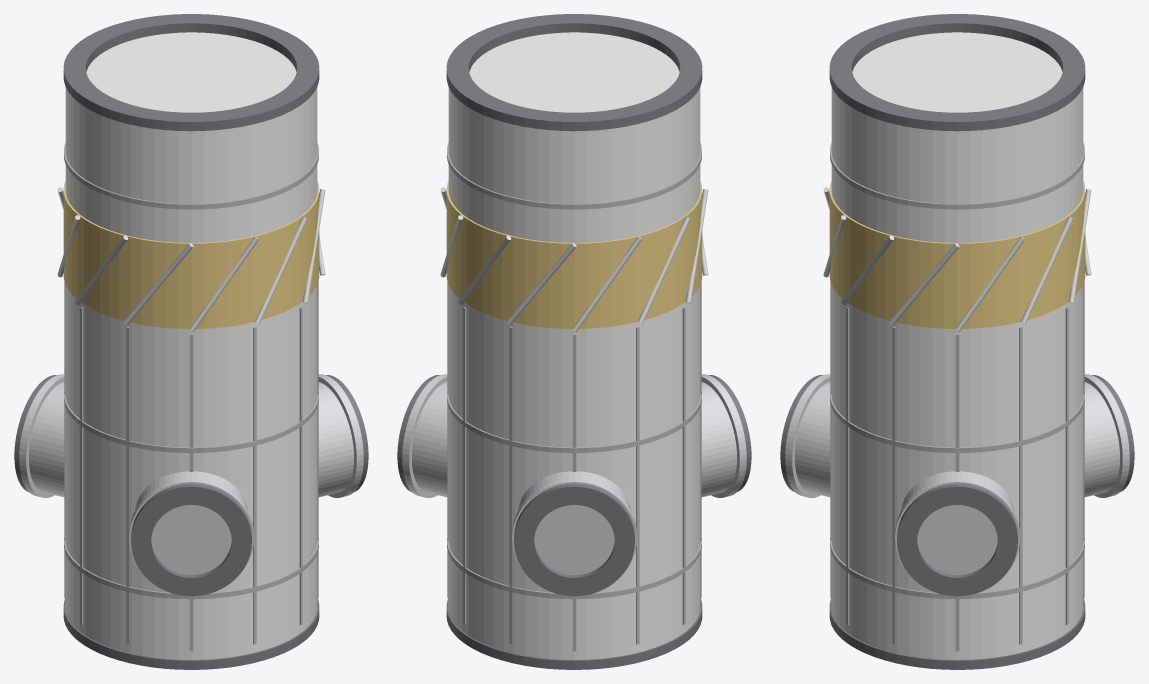
The model's file is station13_despun_core.glb.
3 renders of one model, left to right at view 1: azimuth 30°, elevation 25°; view 2: azimuth 150°, elevation 25°; view 3: azimuth 270°, elevation 25°, orthographic.
Parts seen in each view (by area): view 1: core_hull, equipment_band, docking_collars, end_rings, mmod_grid, docking_rings, band_struts; view 2: core_hull, equipment_band, docking_collars, end_rings, mmod_grid, docking_rings, band_struts; view 3: core_hull, equipment_band, docking_collars, end_rings, mmod_grid, docking_rings, band_struts.
Part boxes in pixels (left/top/right/bottom): core_hull: left=65, top=32, right=317, bottom=659; equipment_band: left=63, top=181, right=319, bottom=328; docking_collars: left=19, top=374, right=363, bottom=574; end_rings: left=63, top=14, right=319, bottom=669; mmod_grid: left=64, top=143, right=318, bottom=651; docking_rings: left=14, top=375, right=368, bottom=596; band_struts: left=57, top=187, right=325, bottom=331; core_hull: left=448, top=32, right=700, bottom=659; equipment_band: left=446, top=181, right=702, bottom=328; docking_collars: left=402, top=374, right=746, bottom=574; end_rings: left=446, top=14, right=702, bottom=669; mmod_grid: left=447, top=143, right=701, bottom=651; docking_rings: left=397, top=375, right=751, bottom=596; band_struts: left=440, top=187, right=708, bottom=331; core_hull: left=831, top=32, right=1083, bottom=659; equipment_band: left=829, top=181, right=1085, bottom=328; docking_collars: left=785, top=374, right=1129, bottom=574; end_rings: left=829, top=14, right=1085, bottom=669; mmod_grid: left=830, top=143, right=1084, bottom=651; docking_rings: left=780, top=375, right=1134, bottom=596; band_struts: left=823, top=187, right=1091, bottom=331.
Bounding box in the file's own units: 4.57 × 9 × 5.27.
